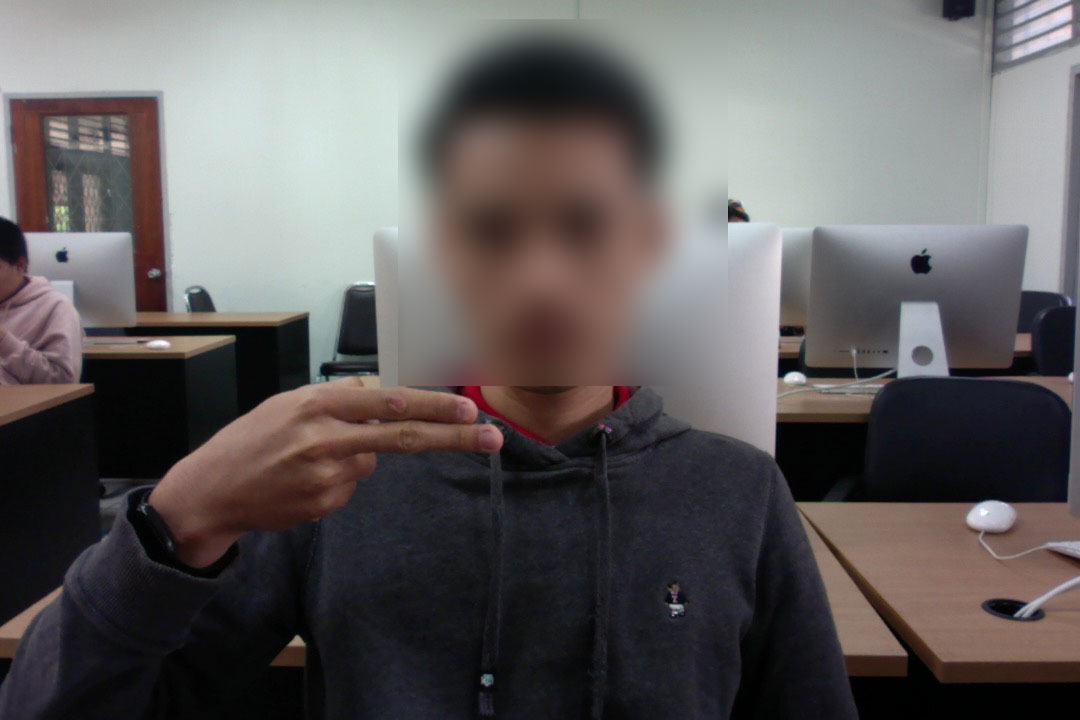hor: (162, 378, 512, 538)
